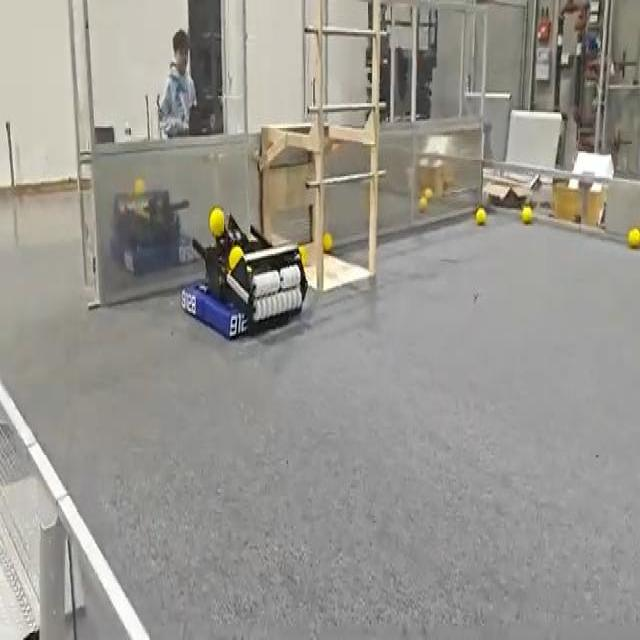Fuel: (209, 206, 224, 236), (228, 246, 243, 268), (627, 228, 639, 247), (133, 178, 145, 194), (322, 233, 332, 251), (475, 208, 486, 224), (521, 206, 532, 222), (476, 208, 486, 225), (298, 245, 306, 265), (418, 196, 427, 210)
